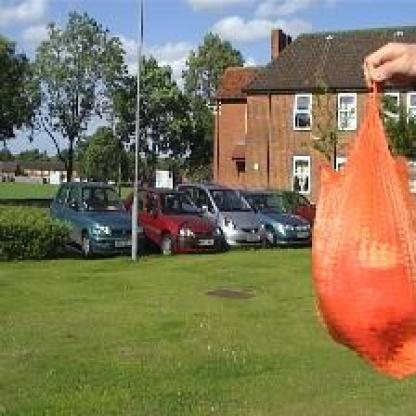other: (317, 95, 411, 378)
